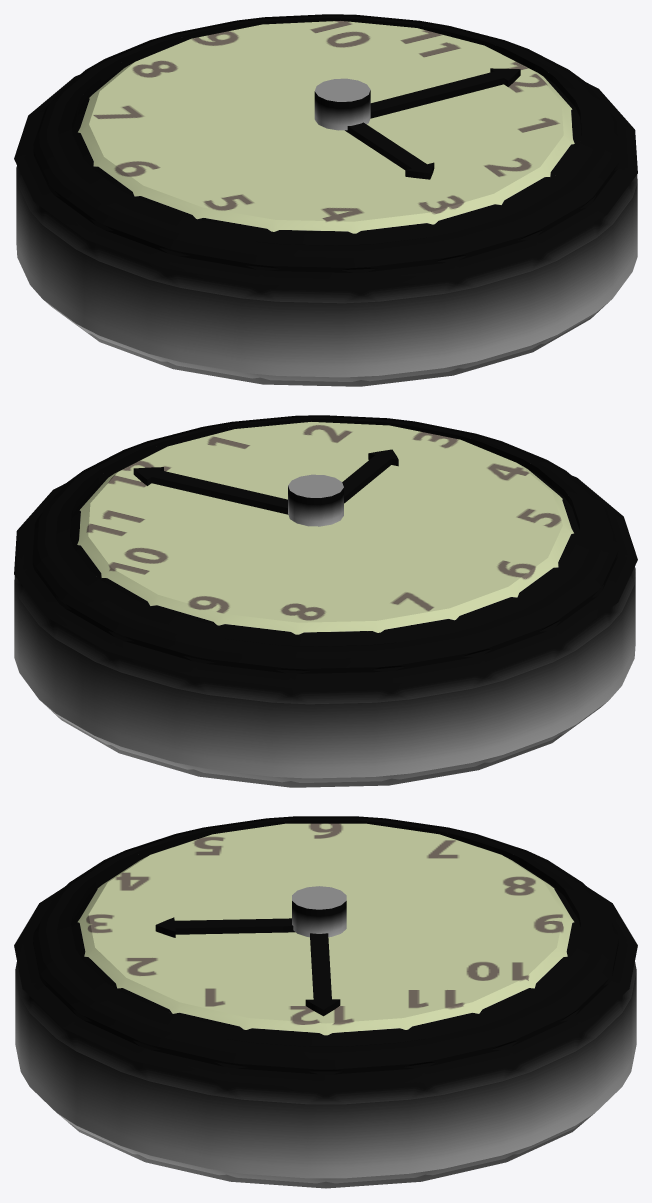
File: clock.FBX
The picture shows the model from 3 angles, top to bottom: view 1: azimuth 30°, elevation 25°; view 2: azimuth 150°, elevation 25°; view 3: azimuth 270°, elevation 25°; orthographic projection.
Visible parts, largest first — view 1: Cylinder001, Cylinder002, Box005, Box004; view 2: Cylinder001, Cylinder002, Box005, Box004; view 3: Cylinder001, Cylinder002, Box004, Box005.
Boxes of the visible parts, x1=… form: Cylinder001: x1=14, y1=14, x2=637, y2=386; Cylinder002: x1=314, y1=78, x2=370, y2=130; Box005: x1=370, y1=68, x2=520, y2=118; Box004: x1=345, y1=122, x2=434, y2=179; Cylinder001: x1=14, y1=415, x2=637, y2=787; Cylinder002: x1=288, y1=474, x2=343, y2=526; Box005: x1=133, y1=467, x2=288, y2=514; Box004: x1=342, y1=449, x2=398, y2=503; Cylinder001: x1=14, y1=816, x2=637, y2=1188; Cylinder002: x1=292, y1=886, x2=346, y2=937; Box004: x1=155, y1=917, x2=295, y2=937; Box005: x1=305, y1=933, x2=340, y2=1016.
Size of the model in its own units: 33.6 by 10.24 by 33.7.
